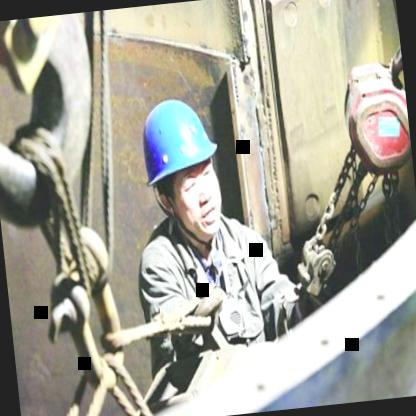helmet: (126, 74, 234, 256)
